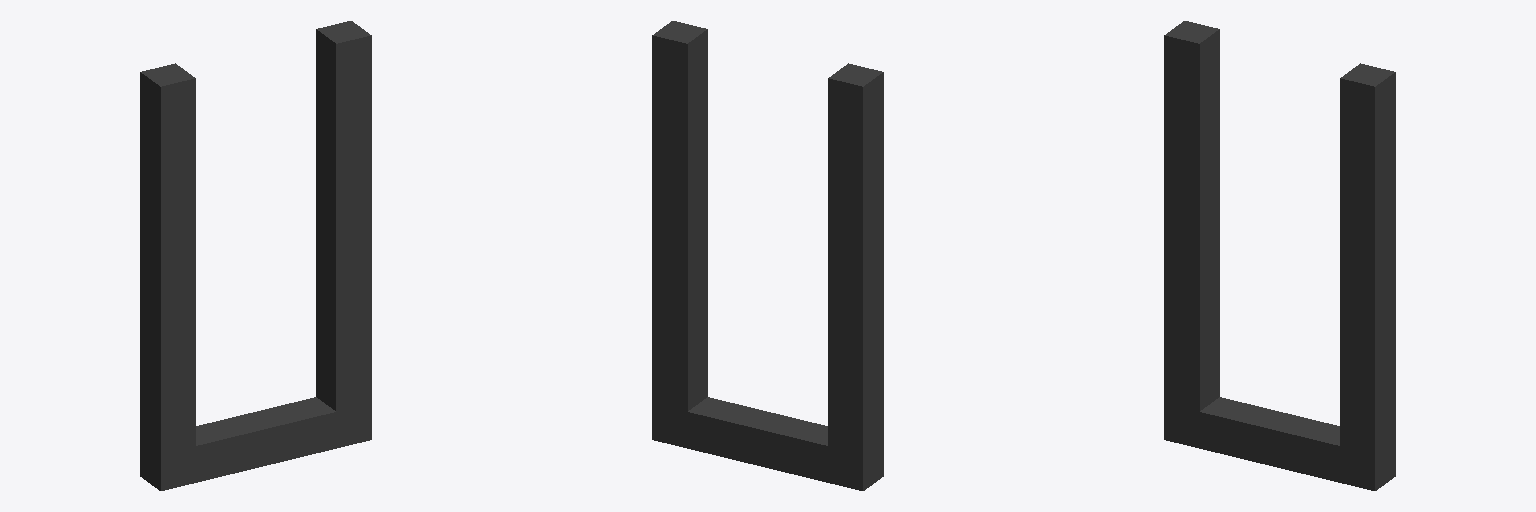
URDF robot description (test_scene):
<?xml version="1.0" encoding="UTF-8"?>

<robot name="test_scene">
  <link name="test_link">
    <contact>
      <lateral_friction value="1.0"/>
      <rolling_friction value="0.0"/>
      <contact_cfm value="0.0"/>
      <contact_erp value="1.0"/>
    </contact>
    <inertial>
      <origin rpy="0 0 0" xyz="0.0 0.25 1"/>
       <mass value="2"/>
       <inertia ixx="3" ixy="0" ixz="0" iyy="3" iyz="0" izz="1"/>
    </inertial>
    <visual>
      <origin rpy="0 0 0" xyz="0 0 0"/>
      <geometry>
        <mesh filename="package://morpheus_teleop/meshes/components/visual/goalpost.obj" scale=".01 .01 .01"/>
      </geometry>
      <material name="grey">
        <color rgba="0.3 0.3 0.3 1" />
      </material>
    </visual>
    <collision>
      <origin rpy="0 0 0" xyz="0 0 0" />
      <geometry>
        <mesh filename="package://morpheus_teleop/meshes/components/collision/goalpost.obj" scale=".01 .01 .01"/>
      </geometry>
    </collision>
  </link>

  <link name="world" />
    <joint name="world_joint" type="fixed">
        <parent link="world" />
        <child link ="test_link" />
        <origin xyz="0.0 0.0 0.5" rpy="0.0 0.0 0.0" />
    </joint>
</robot>

--- Facts derived from the render (not from the file) ---
The picture shows the robot from 3 angles, left to right: view 1: azimuth 30°, elevation 25°; view 2: azimuth 150°, elevation 25°; view 3: azimuth 330°, elevation 25°; orthographic projection.
Model test_scene with 2 links and 1 joints (1 fixed), rooted at world, posed every joint at zero.
Links seen in each view (by area): view 1: test_link; view 2: test_link; view 3: test_link.
Link boxes in pixels (box(x1,y1,x2,y2)): test_link: box(140, 21, 371, 490); test_link: box(652, 21, 883, 490); test_link: box(1164, 21, 1395, 490).
Size in the robot's own frame: 3 by 0.5 by 5.5 metres.
1 mesh visuals loaded from 1 distinct referenced files (1 OBJ).